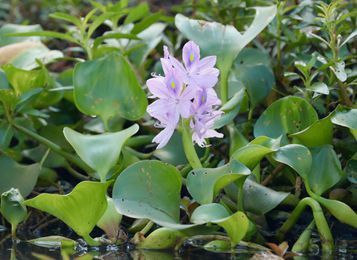water_hyacinth: (0, 6, 357, 260)
